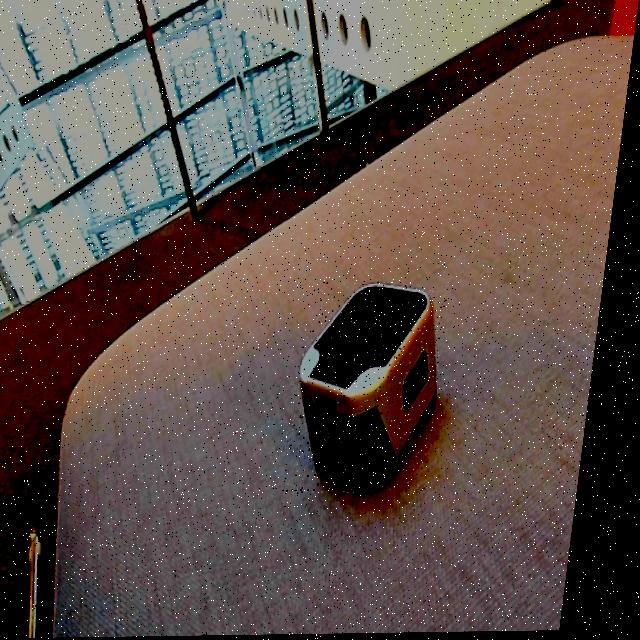adapter: (295, 281, 459, 495)
